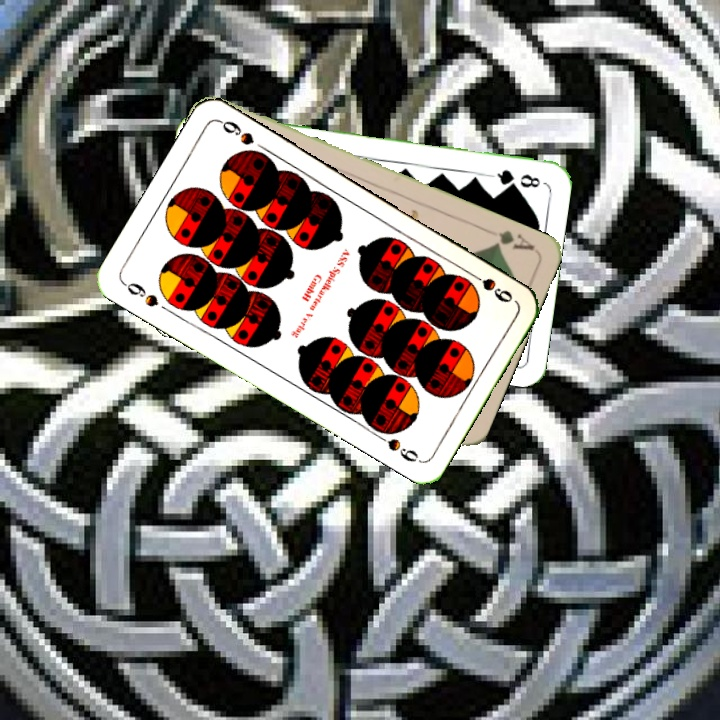G8: (487, 166, 543, 191)
GA: (489, 226, 538, 254)
S9: (463, 267, 516, 306), (119, 278, 162, 310)
